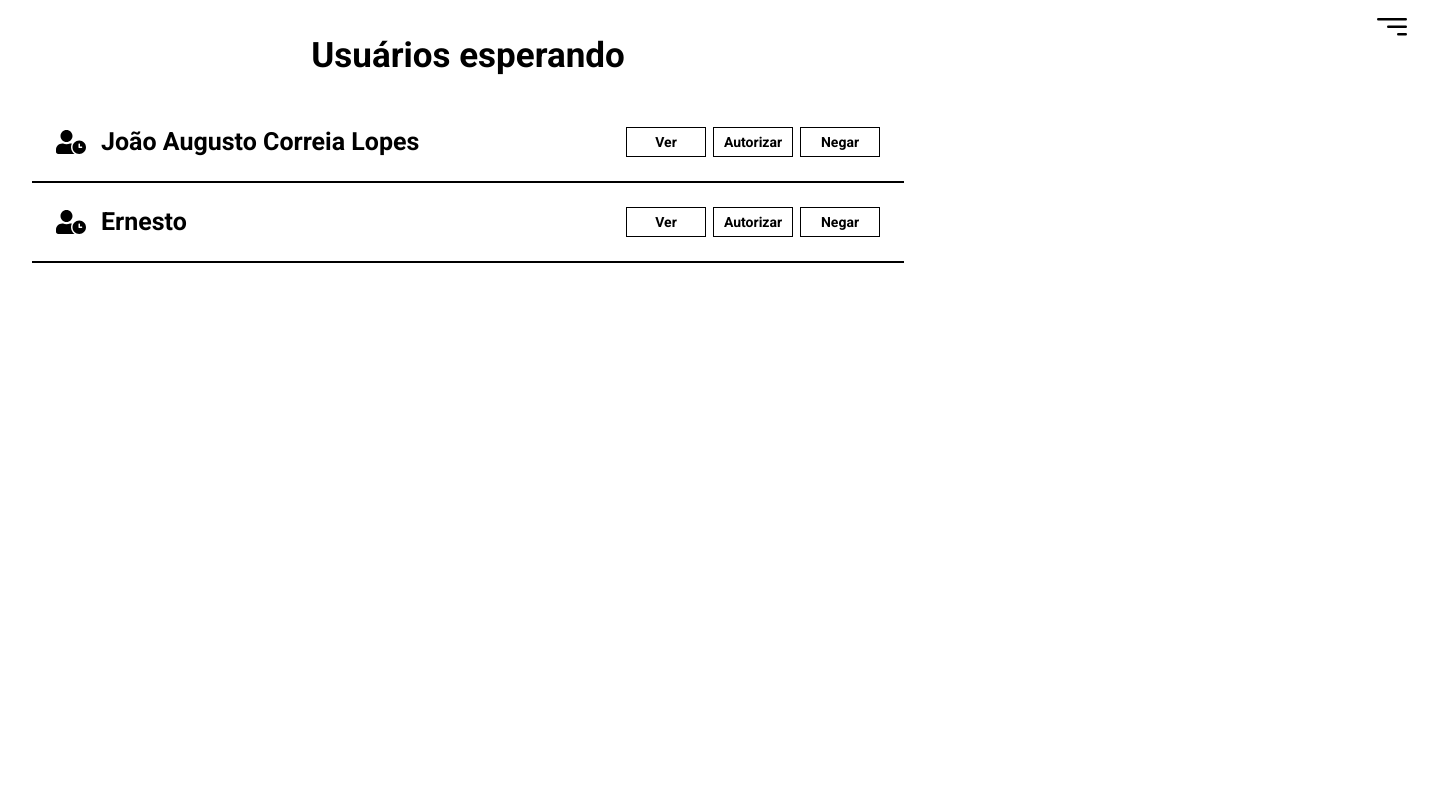
Scenario: UsersWaiting › Render warning deny
Click the button "Negar" in the row of "João Augusto Correia Lopes" at {"x": 840, "y": 142}, box [800,126,880,156]
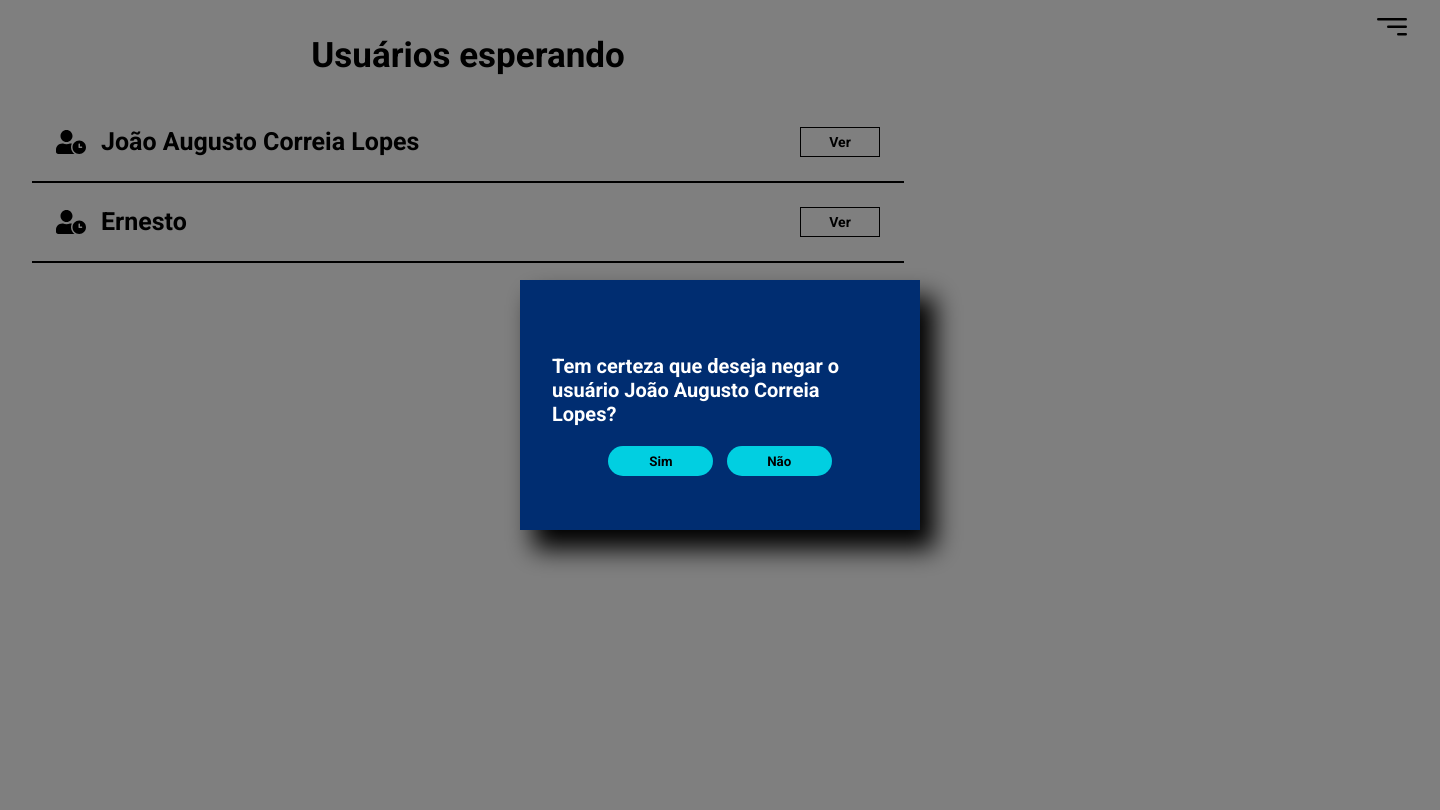
Expected: the text "Tem certeza que deseja negar o usuário João Augusto Correia Lopes?" is shown, [552,334,888,446]
Expected: the button "Sim" is shown, [608,446,713,476]
Expected: the button "Não" is shown, [727,446,832,476]
